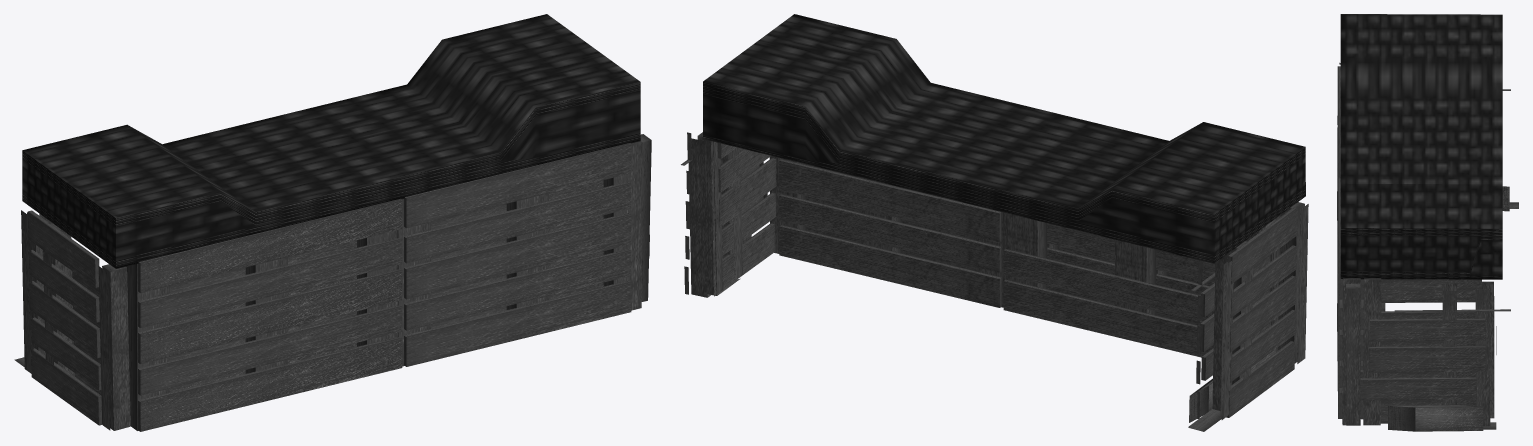
The model's file is spk.fbx.
3 views of the same model, side by side, from view 1: azimuth 30°, elevation 25°; view 2: azimuth 150°, elevation 25°; view 3: azimuth 270°, elevation 25° (orthographic). The views are drawn at different scales.
Visible parts, largest first — view 1: polySurface74, pCube35; view 2: polySurface74, pCube35; view 3: pCube35, polySurface74.
Boxes of the visible parts, x1,y1,x2,y2 form: polySurface74: [14, 134, 651, 431]; pCube35: [22, 14, 640, 268]; polySurface74: [681, 132, 1308, 431]; pCube35: [703, 14, 1305, 263]; pCube35: [1340, 14, 1502, 279]; polySurface74: [1337, 62, 1518, 431].
Size of the model in its own units: 30.69 by 12.07 by 10.12.
